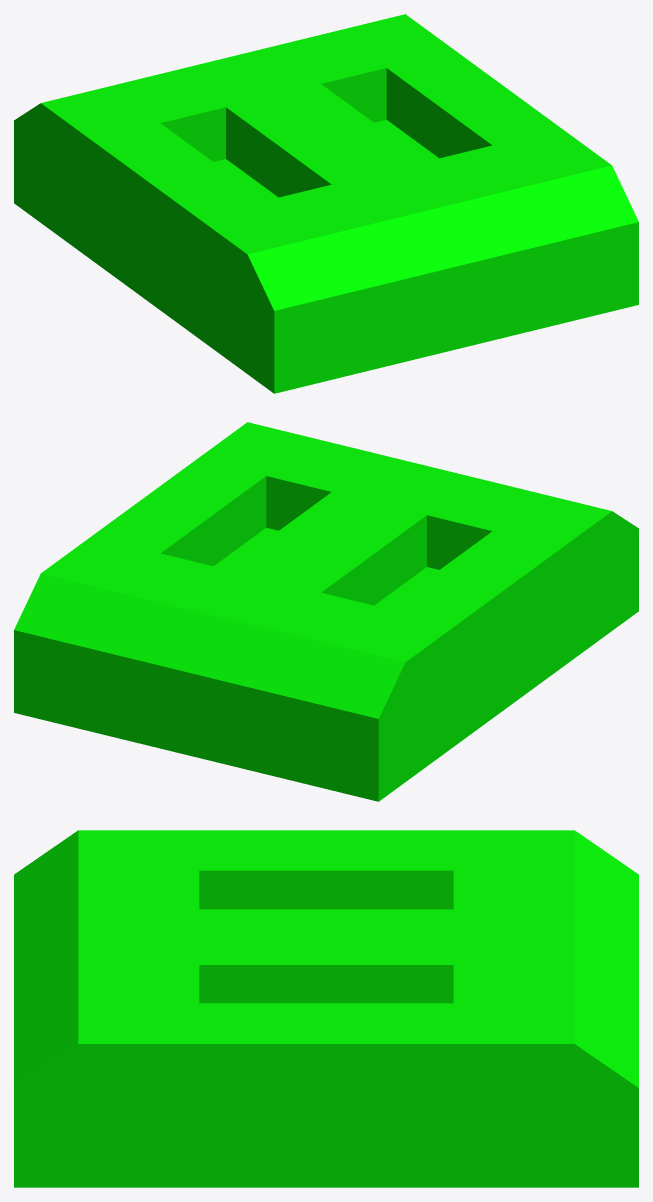
File: SM_Switch_02_Collider.fbx
3 renders of one model, top to bottom at view 1: azimuth 30°, elevation 25°; view 2: azimuth 150°, elevation 25°; view 3: azimuth 270°, elevation 25°, orthographic. The views are drawn at different scales.
Visible parts, largest first — view 1: SM_Switch_02_Collider; view 2: SM_Switch_02_Collider; view 3: SM_Switch_02_Collider.
Boxes of the visible parts, x1=… form: SM_Switch_02_Collider: x1=14, y1=14, x2=638, y2=393; SM_Switch_02_Collider: x1=14, y1=422, x2=638, y2=801; SM_Switch_02_Collider: x1=14, y1=830, x2=638, y2=1187.
Size of the model in its own units: 13.92 by 4.37 by 17.2.
